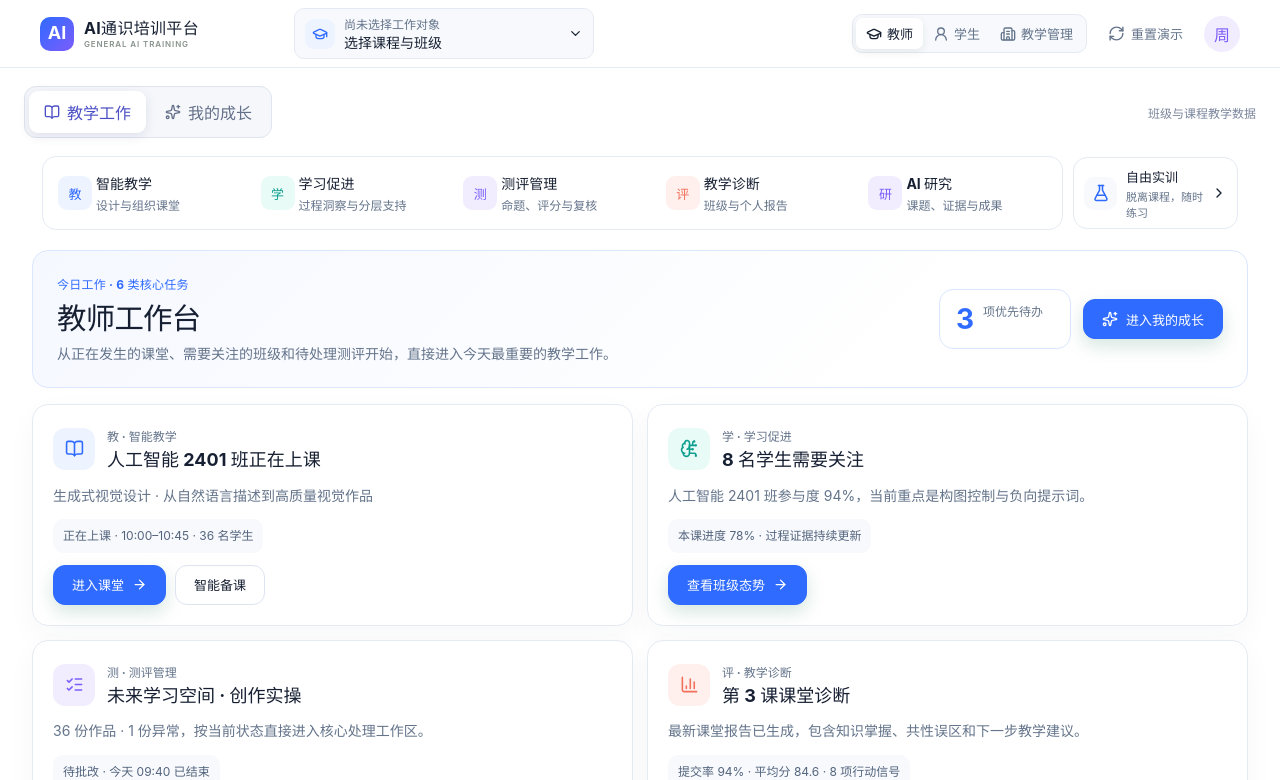
AI通识培训平台能力主线 › 学生伦理课程展示独立导学内容，图谱与助教不复用主课程
This screenshot has width=1280, height=780.
Click the button "学生" at (956, 34), box [923,18,990,49]
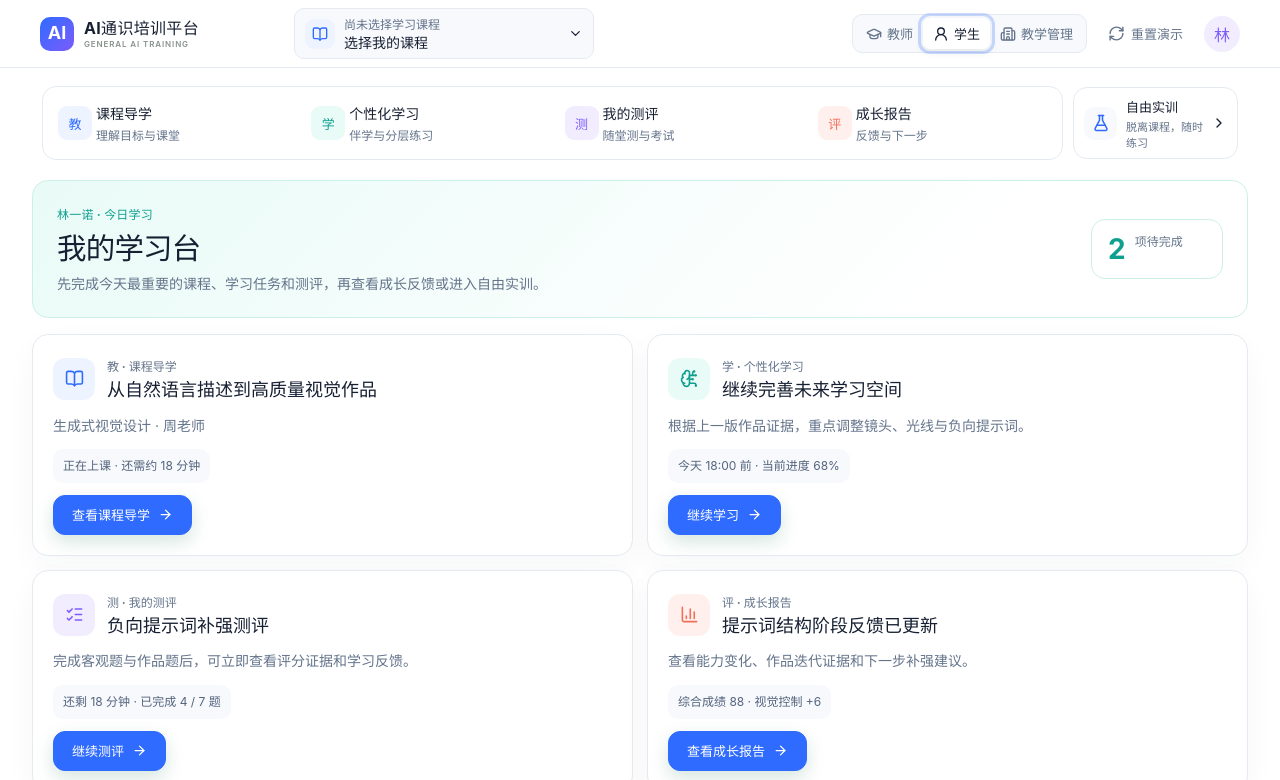
Click the button "尚未选择学习课程 选择我的课程" at (392, 24), box [294,8,594,59]
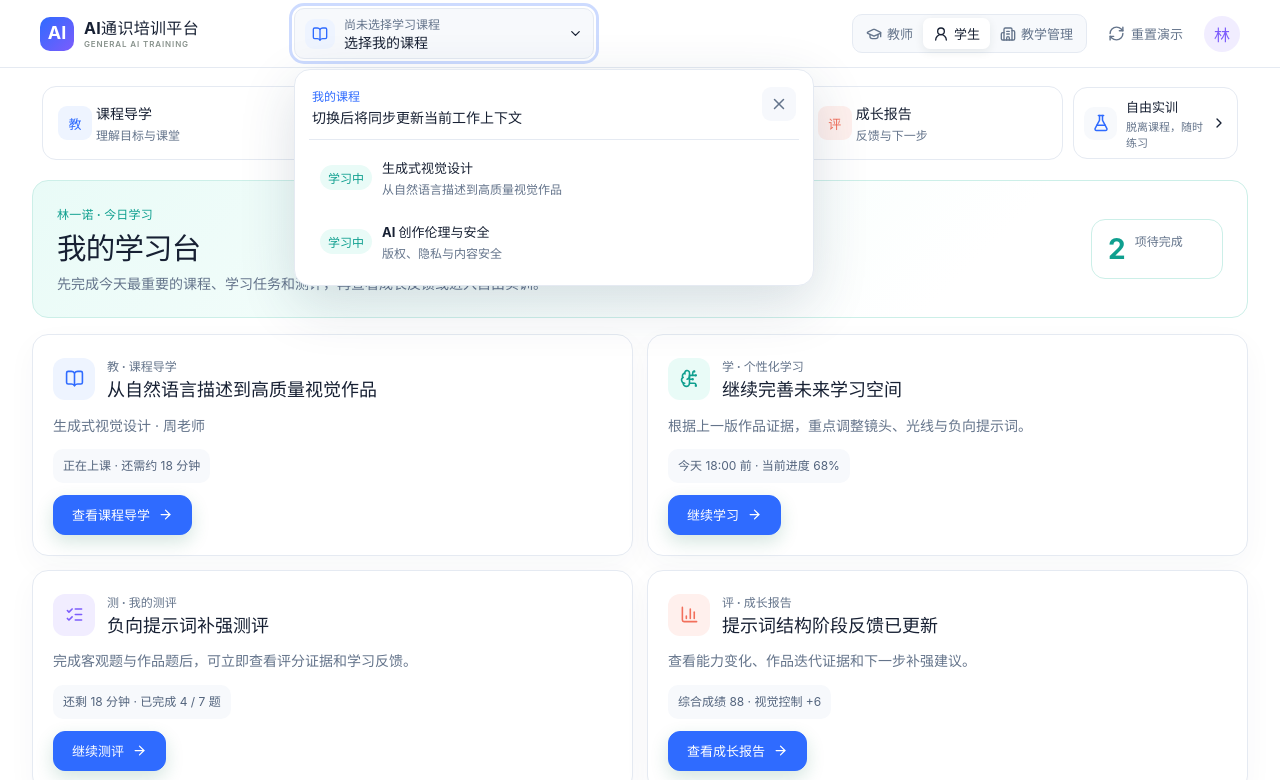
Click the button "学习中 AI 创作伦理与安全 版权、隐私与内容安全" at (346, 242), box [309,212,799,271]
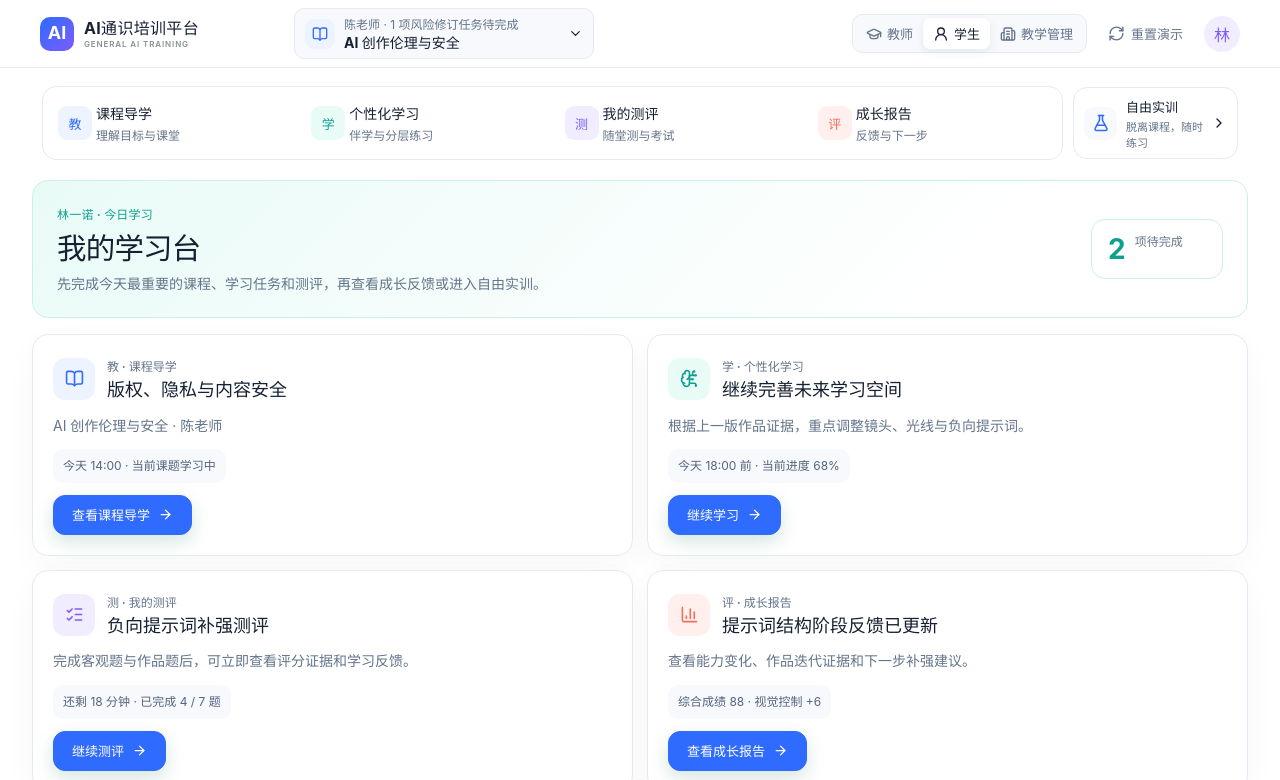
Click the button "查看课程导学" at (122, 515), box [53,495,192,535]
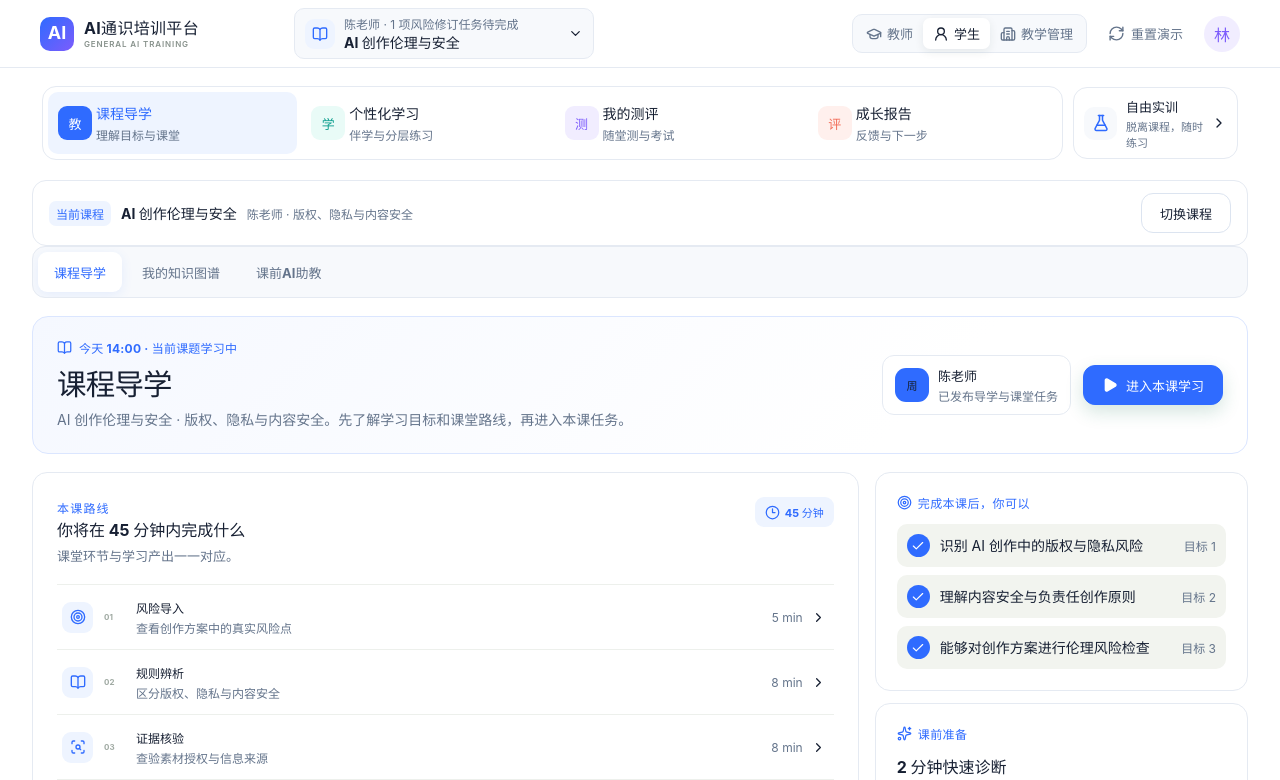
Expected: the heading "课程导学" is shown, [57,366,172,402]
Expected: the text "识别 AI 创作中的版权与隐私风险" is shown, [940,535,1176,557]
Click the tab "我的知识图谱" at (181, 272), box [126,252,236,292]
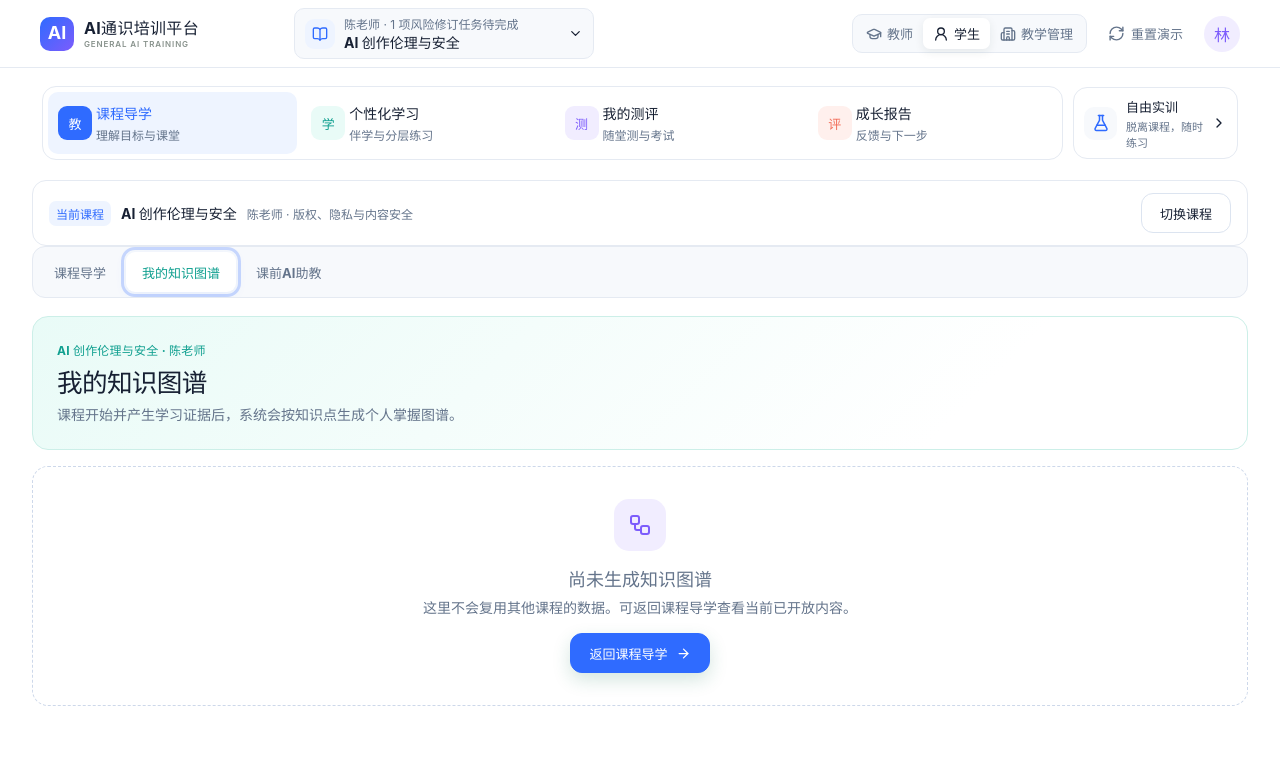
Expected: the heading "我的知识图谱" is shown, [57,367,207,398]
Expected: the heading "尚未生成知识图谱" is shown, [568,569,712,590]
